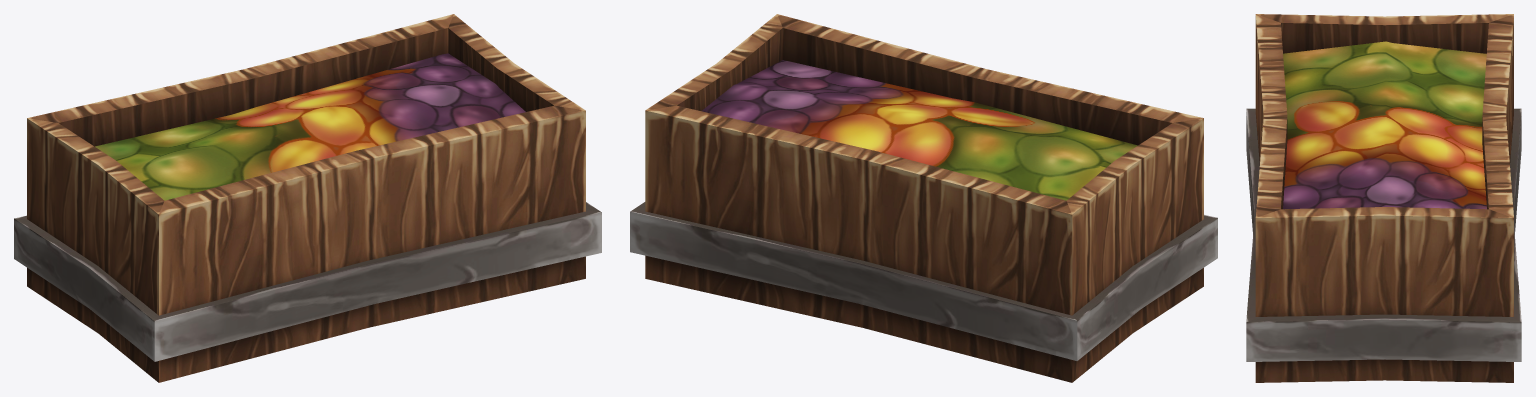
The picture shows the model from 3 angles, left to right: view 1: azimuth 30°, elevation 25°; view 2: azimuth 150°, elevation 25°; view 3: azimuth 270°, elevation 25°; orthographic projection. The views are drawn at different scales.
Visible parts, largest first — view 1: Box_4; view 2: Box_4; view 3: Box_4.
Boxes of the visible parts, bbox=[...] form: Box_4: bbox=[14, 14, 601, 382]; Box_4: bbox=[630, 14, 1217, 382]; Box_4: bbox=[1246, 14, 1521, 382].
Size of the model in its own units: 391 by 141 by 213.
